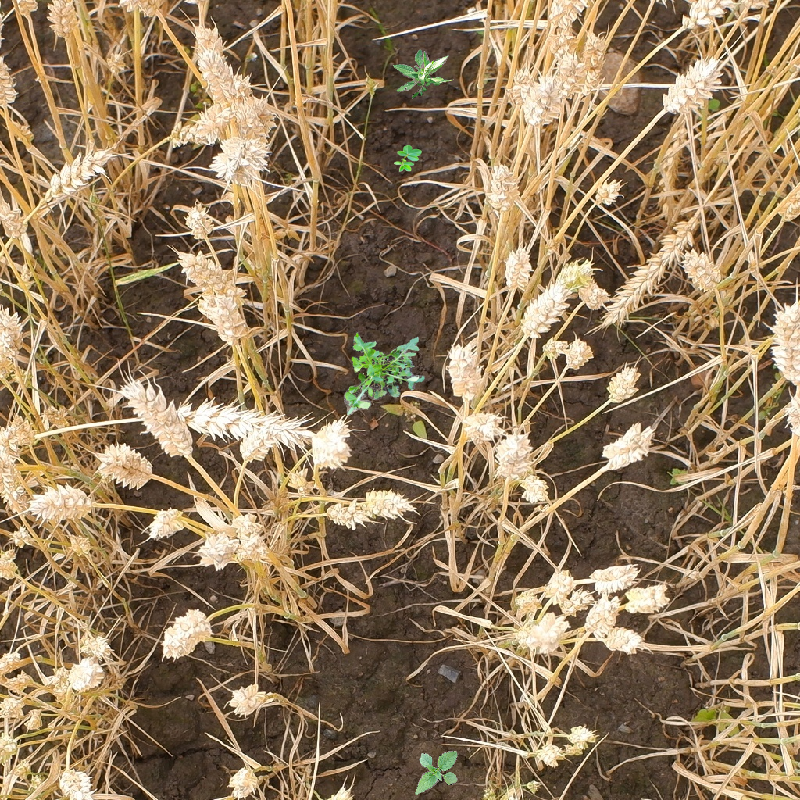spikelet: (605, 224, 690, 321), (176, 247, 249, 343), (518, 254, 591, 338), (120, 376, 193, 455), (186, 397, 306, 444), (521, 48, 591, 124), (190, 23, 248, 99), (658, 50, 724, 116), (43, 142, 113, 204), (209, 131, 269, 186), (235, 414, 300, 463), (679, 0, 781, 31), (158, 604, 214, 660), (599, 419, 657, 471), (94, 440, 152, 490), (767, 298, 800, 384), (29, 479, 93, 523), (305, 414, 355, 470), (512, 608, 569, 656), (442, 339, 486, 400), (490, 429, 534, 482), (360, 483, 416, 522), (482, 161, 520, 218), (681, 245, 724, 294), (540, 0, 603, 31), (322, 491, 369, 531), (457, 404, 502, 445), (603, 360, 643, 405), (588, 558, 639, 593), (623, 578, 672, 614), (227, 679, 272, 718), (144, 502, 188, 541), (500, 242, 534, 292), (195, 526, 235, 568), (60, 530, 100, 572), (63, 655, 105, 694), (0, 413, 39, 455), (582, 594, 619, 637), (0, 37, 21, 109), (44, 0, 81, 40), (181, 199, 216, 241), (602, 622, 646, 655), (540, 566, 577, 605), (57, 764, 98, 799), (225, 763, 263, 799), (588, 174, 625, 210), (0, 305, 24, 359), (562, 721, 599, 756), (561, 334, 595, 371), (99, 44, 132, 82), (576, 275, 610, 311), (76, 628, 114, 660), (518, 470, 551, 506), (782, 377, 799, 438), (5, 520, 39, 550), (114, 0, 172, 17), (0, 690, 27, 723), (21, 771, 51, 799), (534, 740, 565, 767), (0, 545, 21, 583), (0, 726, 20, 765), (0, 646, 23, 679)
weed: (344, 332, 425, 416), (384, 38, 462, 109), (408, 747, 464, 796), (394, 145, 422, 172)
